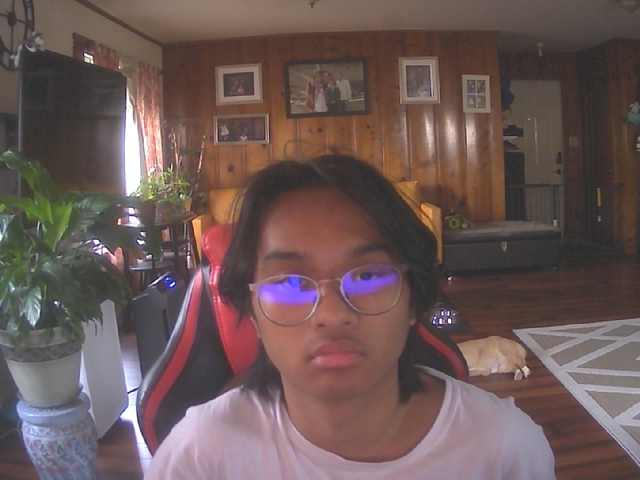neutral: (237, 161, 427, 404)
